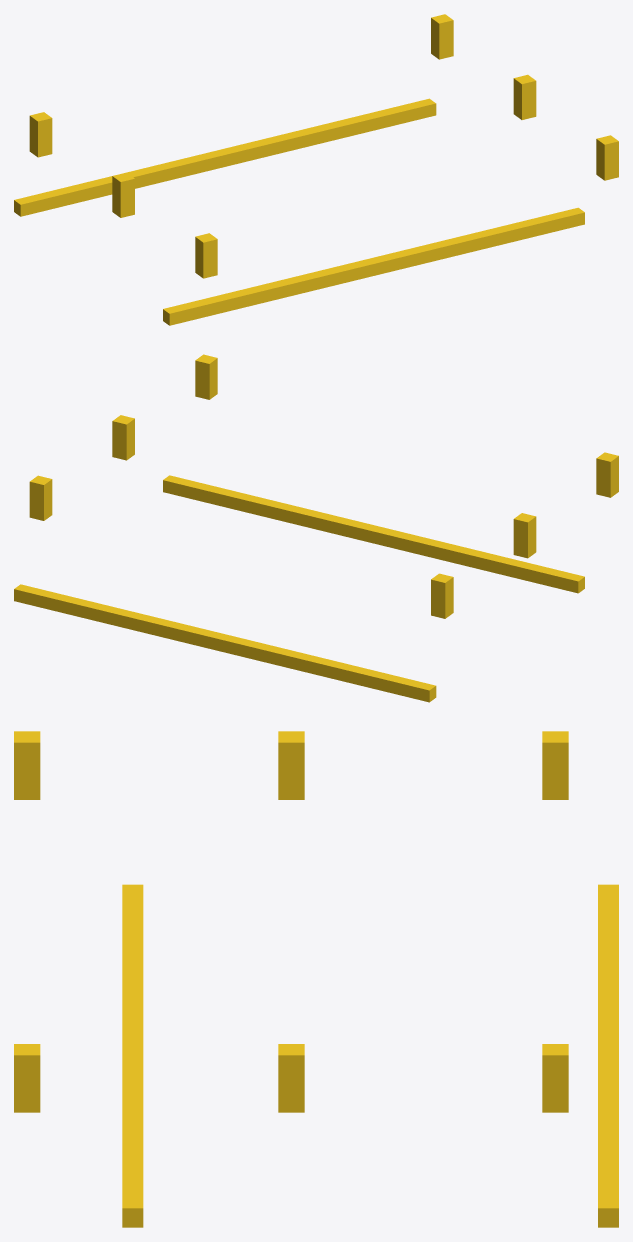
File: upgrade-wire_basket.glb
3 views of the same model, one above another, from view 1: azimuth 30°, elevation 25°; view 2: azimuth 150°, elevation 25°; view 3: azimuth 270°, elevation 25° (orthographic). The views are drawn at different scales.
Visible parts, largest first — view 1: upgrade-wire_basket; view 2: upgrade-wire_basket; view 3: upgrade-wire_basket.
Boxes of the visible parts, <box> form: upgrade-wire_basket: <box>14,14,618,325</box>; upgrade-wire_basket: <box>14,354,618,702</box>; upgrade-wire_basket: <box>14,731,618,1227</box>.
Size of the model in its own units: 1.45 by 0.36 by 1.14.
